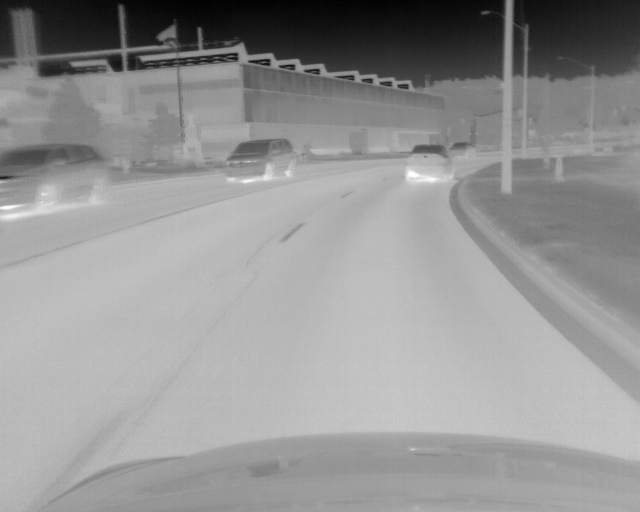car: (1, 142, 111, 218), (225, 137, 296, 183), (406, 144, 452, 183), (449, 141, 476, 157)
